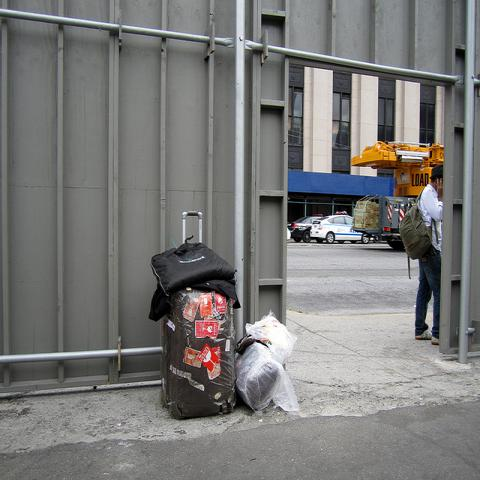car: (310, 214, 371, 244), (287, 216, 321, 243)
truck: (351, 141, 444, 251)
